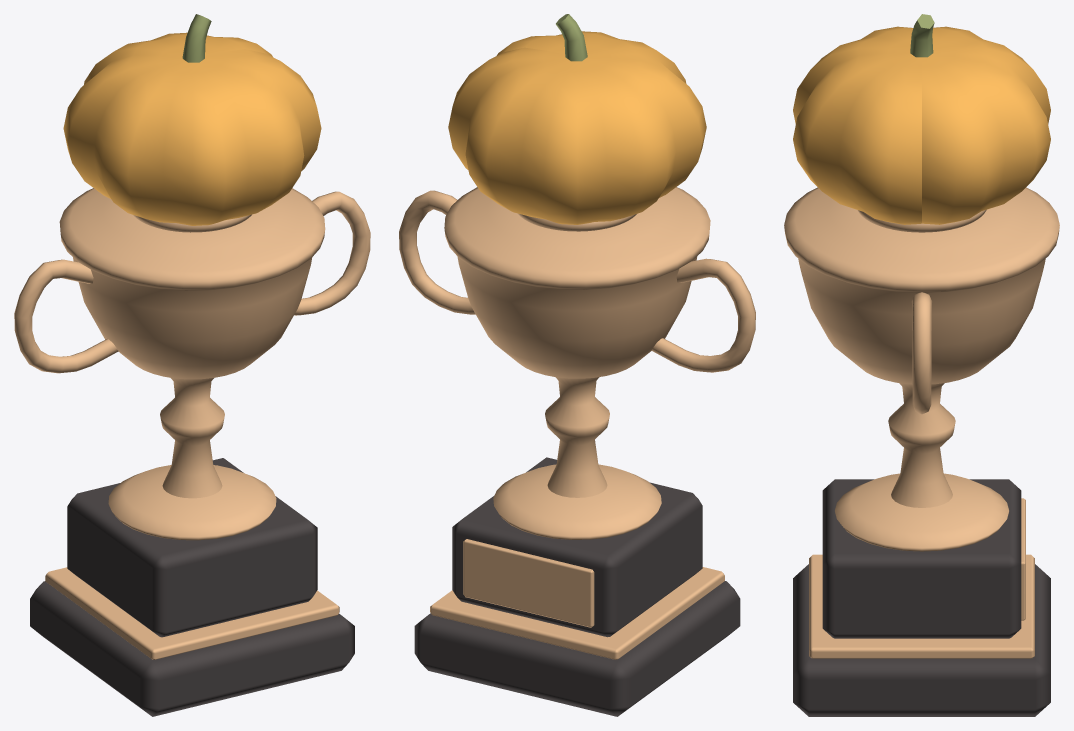
Rendered from item-pumpkin-trophy-4.glb.
3 renders of one model, left to right at view 1: azimuth 30°, elevation 25°; view 2: azimuth 150°, elevation 25°; view 3: azimuth 270°, elevation 25°, orthographic. The views are drawn at different scales.
Bounding box in the file's own units: 0.2136 × 0.3668 × 0.139.
